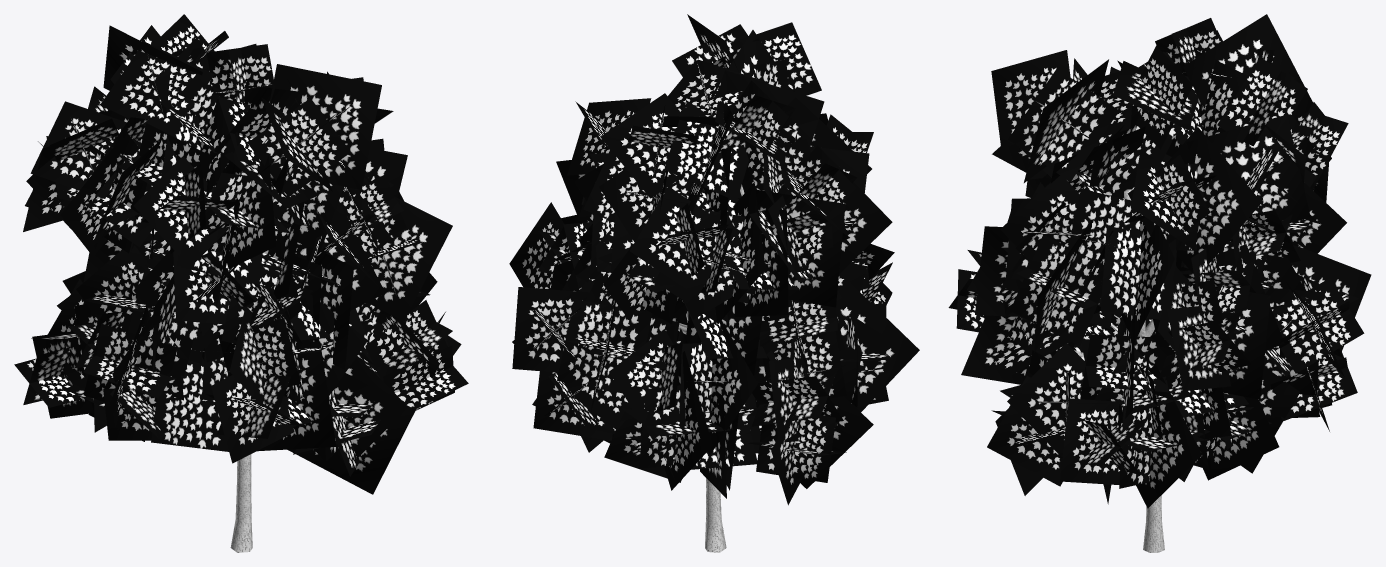
The model's file is RedMaple_LOD1_P2466_B1374_L672_v01.fbx.
The picture shows the model from 3 angles, left to right: view 1: azimuth 30°, elevation 25°; view 2: azimuth 150°, elevation 25°; view 3: azimuth 270°, elevation 25°; orthographic projection.
Visible parts, largest first — view 1: leafclumpatlas_redmaple_1, sugarmaplebarktextureseamless_0; view 2: leafclumpatlas_redmaple_1, sugarmaplebarktextureseamless_0; view 3: leafclumpatlas_redmaple_1, sugarmaplebarktextureseamless_0.
Boxes of the visible parts, left/top/right/bottom form: leafclumpatlas_redmaple_1: left=14, top=14, right=468, bottom=494; sugarmaplebarktextureseamless_0: left=230, top=454, right=252, bottom=552; leafclumpatlas_redmaple_1: left=509, top=14, right=919, bottom=505; sugarmaplebarktextureseamless_0: left=677, top=184, right=744, bottom=552; leafclumpatlas_redmaple_1: left=948, top=14, right=1371, bottom=508; sugarmaplebarktextureseamless_0: left=1059, top=189, right=1164, bottom=552.
Bounding box in the file's own units: 1090 × 1384 × 1066.
